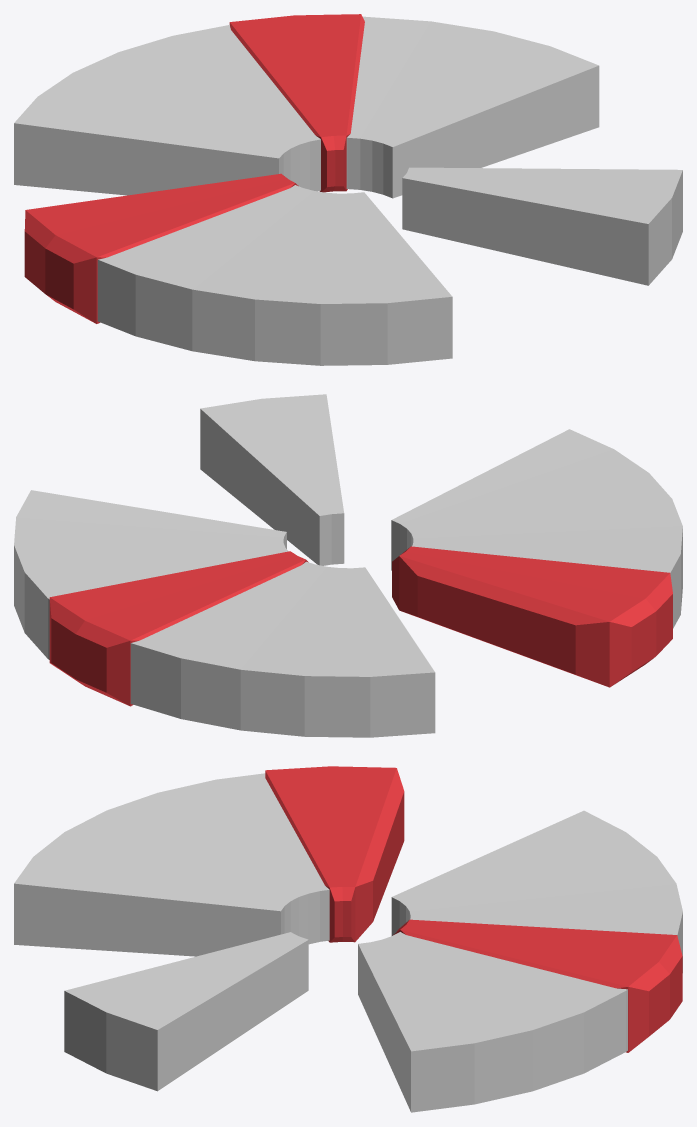
File: platform_triplegap4.glb
3 views of the same model, one above another, from view 1: azimuth 30°, elevation 25°; view 2: azimuth 150°, elevation 25°; view 3: azimuth 270°, elevation 25° (orthographic).
Parts seen in each view (by area): view 1: Platform_TripleGap_Far2, Danger.013, Danger.003; view 2: Platform_TripleGap_Far2, Danger.013, Danger.003; view 3: Platform_TripleGap_Far2, Danger.013, Danger.003.
Boxes of the visible parts, x1,y1,x2,y2 form: Platform_TripleGap_Far2: [14, 16, 682, 365]; Danger.013: [24, 173, 298, 323]; Danger.003: [229, 14, 364, 192]; Platform_TripleGap_Far2: [14, 394, 682, 737]; Danger.013: [392, 546, 672, 687]; Danger.003: [49, 551, 308, 706]; Platform_TripleGap_Far2: [14, 773, 682, 1112]; Danger.013: [265, 766, 404, 942]; Danger.003: [392, 919, 682, 1052].
Bounding box in the file's own units: 2.02 × 0.2167 × 1.98.
